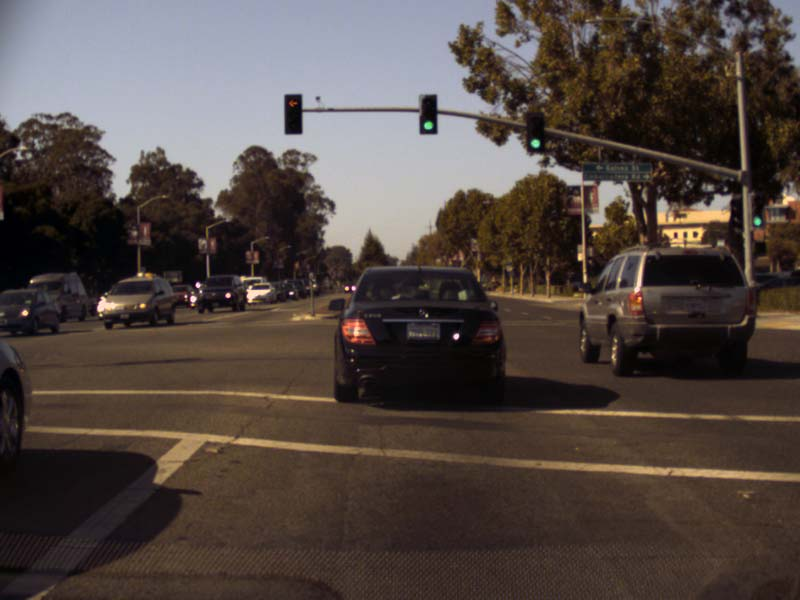Green: (525, 112, 545, 152), (420, 95, 437, 133), (751, 195, 763, 227)
Red: (283, 93, 301, 133)
